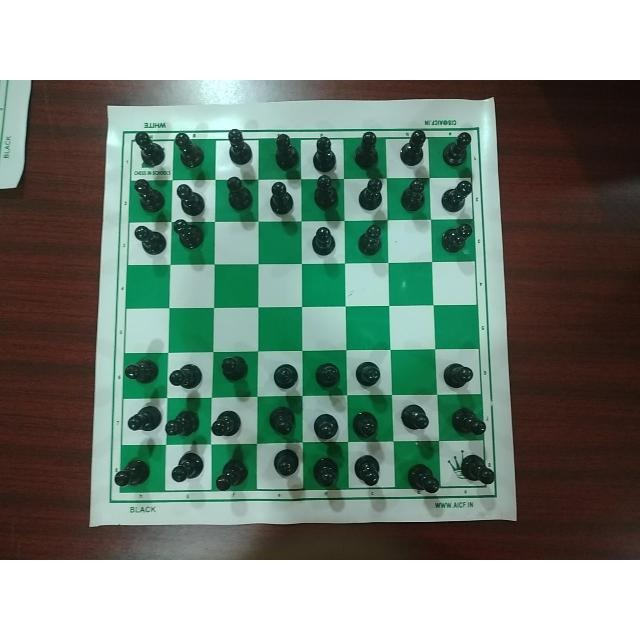black-pawn: (454, 450, 498, 489), (405, 461, 447, 500), (308, 129, 344, 173), (127, 128, 167, 167), (219, 124, 254, 168), (221, 171, 256, 215), (172, 128, 206, 172), (352, 125, 385, 170), (265, 129, 300, 171), (132, 175, 168, 215), (217, 453, 253, 493), (308, 171, 343, 212), (354, 219, 390, 258), (444, 127, 478, 168), (441, 177, 477, 215), (441, 356, 479, 392), (268, 444, 304, 482), (355, 172, 389, 212), (128, 220, 169, 253), (267, 177, 299, 219), (449, 406, 491, 438), (114, 457, 156, 489), (437, 219, 475, 254), (215, 350, 251, 385), (311, 358, 345, 394), (168, 359, 205, 392), (399, 129, 431, 167), (175, 177, 207, 215), (123, 354, 161, 386), (124, 403, 160, 436), (349, 452, 382, 488), (309, 454, 342, 489), (173, 448, 205, 483), (351, 404, 382, 440), (166, 407, 198, 441), (265, 402, 296, 437), (271, 358, 301, 394), (399, 399, 430, 433), (399, 174, 428, 210), (171, 219, 203, 251), (310, 222, 338, 257), (212, 409, 244, 439), (311, 410, 341, 442), (353, 360, 385, 388)
